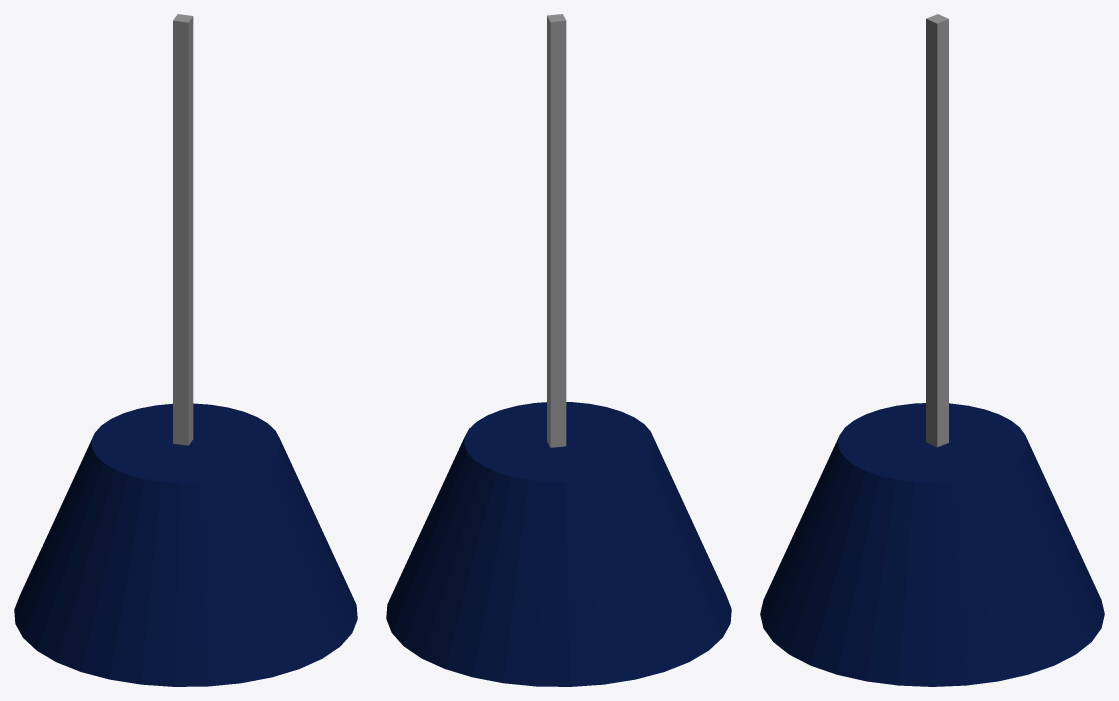
Rendered from Lamp1.fbx.
3 views of the same model, side by side, from view 1: azimuth 30°, elevation 25°; view 2: azimuth 150°, elevation 25°; view 3: azimuth 270°, elevation 25° (orthographic).
Visible parts, largest first — view 1: CorridorLight_LOD0; view 2: CorridorLight_LOD0; view 3: CorridorLight_LOD0.
Part boxes in pixels (x1,y1,x2,y2): CorridorLight_LOD0: (14,14,357,686); CorridorLight_LOD0: (386,14,731,686); CorridorLight_LOD0: (760,14,1104,686).
Size of what is drawn, in the model's own units: 71.65 by 136 by 71.65.
